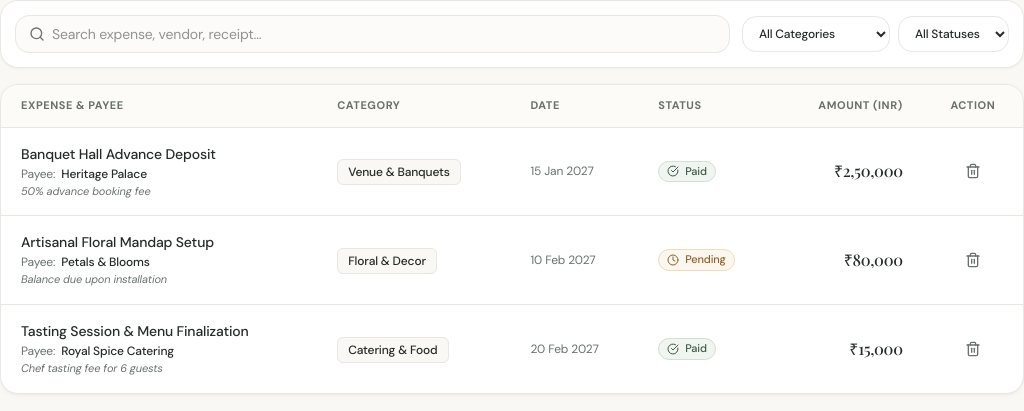
Test case: ExpenseTable Component & Accessibility › filters expenses by search term matching title or payee
The width and height of the screenshot is (1024, 411).
Type "Petals" into the field named "Search expense, vendor, or receipt". click: (372, 34)
box: x1=15 y1=15 x2=730 y2=53
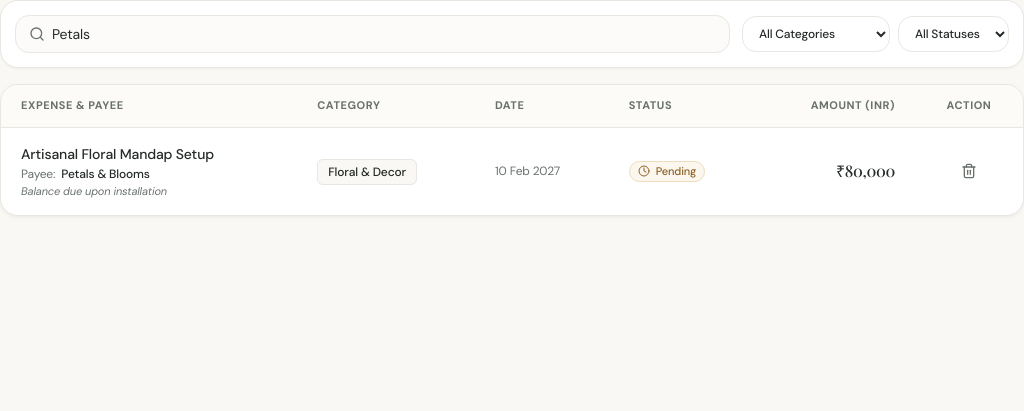
Expected: the text "Artisanal Floral Mandap Setup" is shown, x1=21 y1=145 x2=214 y2=163
Result: the text "Banquet Hall Advance Deposit" is gone
Result: the text "Tasting Session & Menu Finalization" is gone
